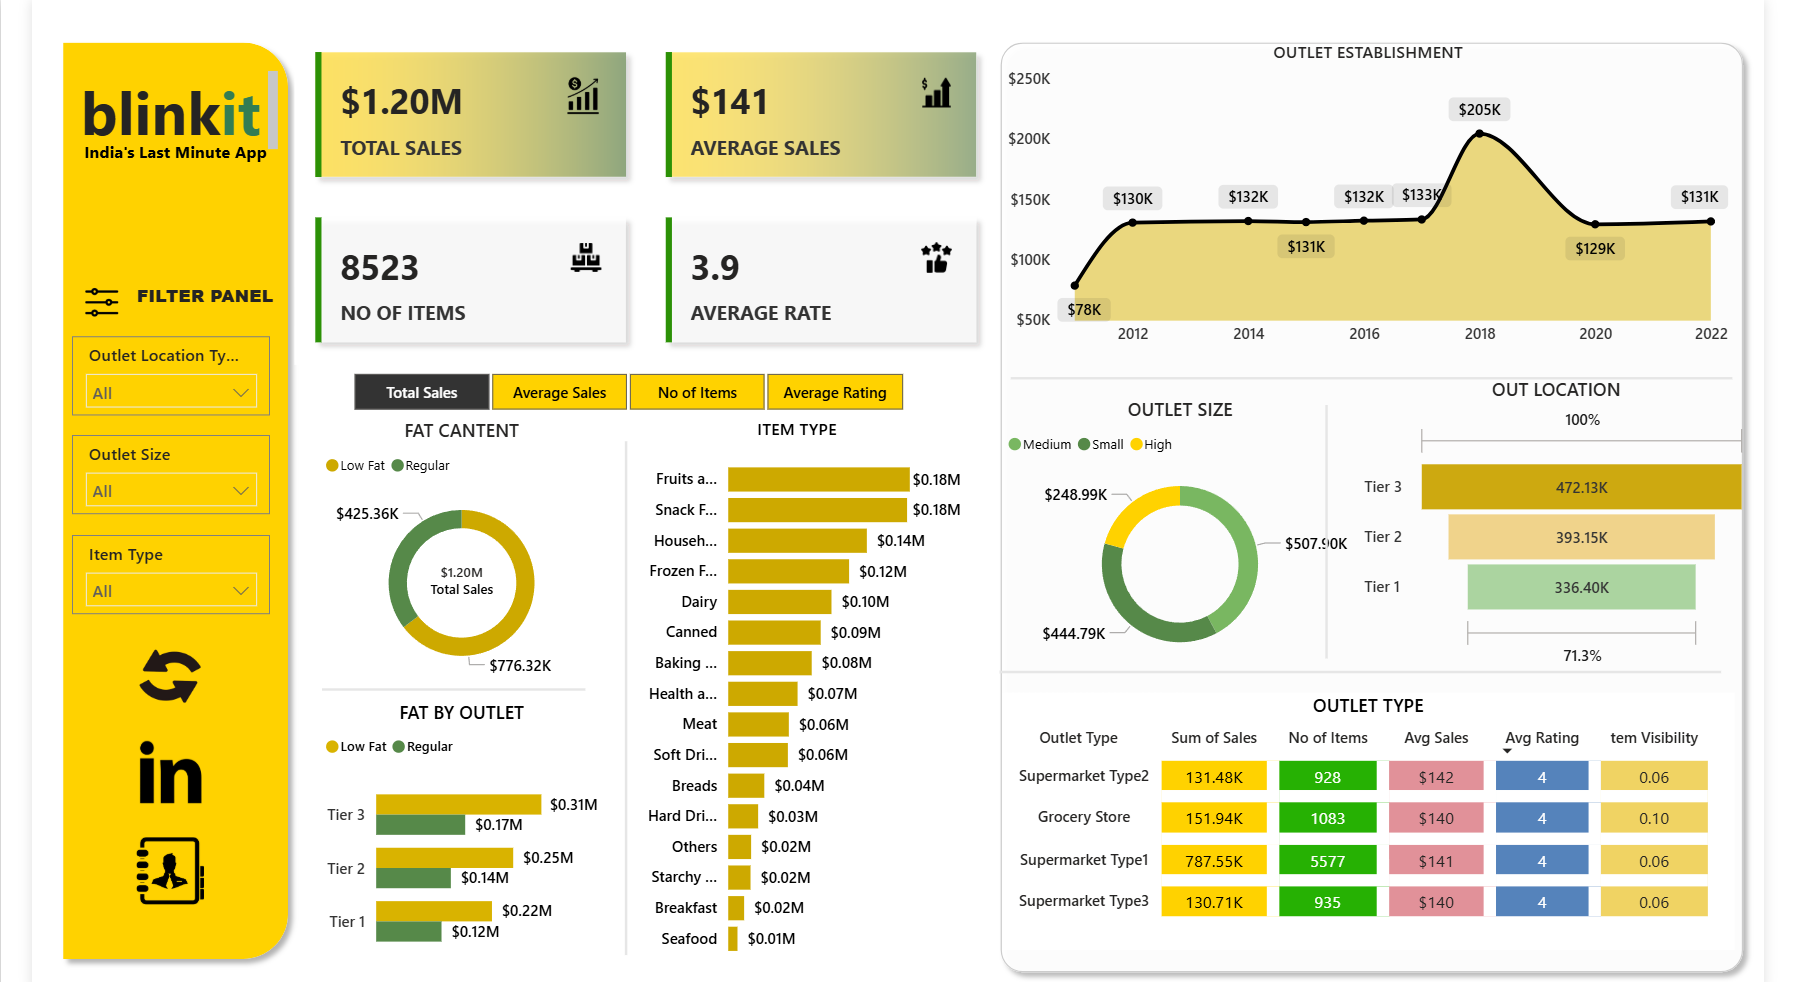

The page's visual inventory and layout, read from the dashboard file:
{"tool":"powerbi","page":{"name":"blinkit dashboard","canvas":[1400,800],"ordinal":0},"visuals":[{"type":"shape","box":[16.1,25.5,199.7,758.7],"z":0},{"type":"textbox","box":[28.5,52.5,175.6,73.5],"z":1000},{"type":"textbox","box":[28.5,108.1,175.6,37.5],"z":2000},{"type":"cardVisual","fields":{"Data":["BlinkIT Grocery Data.Total Sales","BlinkIT Grocery Data.Average Sales","BlinkIT Grocery Data.No of Items","BlinkIT Grocery Data.Average Rate"]},"box":[211.8,25.5,569.7,269.4],"z":3000},{"type":"donutChart","title":"FAT CANTENT","fields":{"Y":["BlinkIT Grocery Data.Total Sales"],"Category":["BlinkIT Grocery Data.Item Fat Content"]},"box":[231.9,337.8,230,220],"z":4000},{"type":"slicer","fields":{"Values":["Metrics.Metrics"]},"box":[234.6,294.9,493.3,42.9],"z":5000},{"type":"clusteredBarChart","title":"FAT BY OUTLET","fields":{"Y":["BlinkIT Grocery Data.Total Sales"],"Category":["BlinkIT Grocery Data.Outlet Location Type"],"Series":["BlinkIT Grocery Data.Item Fat Content"]},"box":[231.9,564.3,230,220],"z":6000},{"type":"shape","box":[234.6,542.9,213.1,29.5],"z":7000},{"type":"shape","box":[462.5,356.6,34.9,415.6],"z":8000},{"type":"cardVisual","fields":{"Data":["BlinkIT Grocery Data.Total Sales"]},"box":[281.5,437,131.4,63],"z":9000},{"type":"barChart","title":"ITEM TYPE ","fields":{"Y":["BlinkIT Grocery Data.Total Sales"],"Category":["BlinkIT Grocery Data.Item Type"]},"box":[481.2,337.8,274.8,446.4],"z":10000},{"type":"shape","box":[773.5,25.5,618,769.4],"z":11000},{"type":"lineChart","title":"OUTLET ESTABLISHMENT ","fields":{"Y":["BlinkIT Grocery Data.Total Sales"],"Category":["BlinkIT Grocery Data.Outlet Establishment Year"]},"box":[784,32,592,256],"z":12000},{"type":"shape","box":[790.9,294.9,583.1,21.4],"z":13000},{"type":"donutChart","title":"OUTLET SIZE","fields":{"Y":["BlinkIT Grocery Data.Total Sales"],"Category":["BlinkIT Grocery Data.Outlet Size"]},"box":[784,320,288,224],"z":14000},{"type":"shape","box":[1037.5,327.1,17.4,205.1],"z":15000},{"type":"funnel","title":"OUT LOCATION ","fields":{"Y":["Sum(BlinkIT Grocery Data.Sales)"],"Category":["BlinkIT Grocery Data.Outlet Location Type"]},"box":[1072,304,320,240],"z":16000},{"type":"shape","box":[781.5,532.2,583.1,21.4],"z":17000},{"type":"pivotTable","title":"OUTLET TYPE","fields":{"Rows":["BlinkIT Grocery Data.Outlet Type"],"Values":["Sum(BlinkIT Grocery Data.Sales)","BlinkIT Grocery Data.No of Items","BlinkIT Grocery Data.Average Sales","BlinkIT Grocery Data.Average Rating","Avg(BlinkIT Grocery Data.Item Visibility)"]},"box":[784,560,592,208],"z":18000},{"type":"slicer","fields":{"Values":["BlinkIT Grocery Data.Outlet Location Type"]},"box":[32,272,160,64],"z":19000},{"type":"slicer","fields":{"Values":["BlinkIT Grocery Data.Outlet Size"]},"box":[32,352,160,64],"z":20000},{"type":"slicer","fields":{"Values":["BlinkIT Grocery Data.Item Type"]},"box":[32,432,160,64],"z":21000},{"type":"image","box":[64,512,96,80],"z":22000},{"type":"image","box":[32,224,48,40],"z":23000},{"type":"textbox","box":[80,224,128,48],"z":24000},{"type":"image","box":[80,592,64,64],"z":25000},{"type":"image","box":[80,672,64,64],"z":26000}]}

Visuals, with their boxes on the page's 1400x800 design canvas (x1, y1, x2, y2). These are canvas units, not pixel positions in the 1794x982 screenshot, which may show the page scaled, cropped or inside an application window:
shape: (x1=16, y1=26, x2=216, y2=784)
textbox: (x1=28, y1=52, x2=204, y2=126)
textbox: (x1=28, y1=108, x2=204, y2=146)
cardVisual - BlinkIT Grocery Data.Total Sales x BlinkIT Grocery Data.Average Sales: (x1=212, y1=26, x2=782, y2=295)
"FAT CANTENT" donutChart: (x1=232, y1=338, x2=462, y2=558)
slicer - Metrics.Metrics: (x1=235, y1=295, x2=728, y2=338)
"FAT BY OUTLET" clusteredBarChart: (x1=232, y1=564, x2=462, y2=784)
shape: (x1=235, y1=543, x2=448, y2=572)
shape: (x1=462, y1=357, x2=497, y2=772)
cardVisual - BlinkIT Grocery Data.Total Sales: (x1=282, y1=437, x2=413, y2=500)
"ITEM TYPE " barChart: (x1=481, y1=338, x2=756, y2=784)
shape: (x1=774, y1=26, x2=1392, y2=795)
"OUTLET ESTABLISHMENT " lineChart: (x1=784, y1=32, x2=1376, y2=288)
shape: (x1=791, y1=295, x2=1374, y2=316)
"OUTLET SIZE" donutChart: (x1=784, y1=320, x2=1072, y2=544)
shape: (x1=1038, y1=327, x2=1055, y2=532)
"OUT LOCATION " funnel: (x1=1072, y1=304, x2=1392, y2=544)
shape: (x1=782, y1=532, x2=1365, y2=554)
"OUTLET TYPE" pivotTable: (x1=784, y1=560, x2=1376, y2=768)
slicer - BlinkIT Grocery Data.Outlet Location Type: (x1=32, y1=272, x2=192, y2=336)
slicer - BlinkIT Grocery Data.Outlet Size: (x1=32, y1=352, x2=192, y2=416)
slicer - BlinkIT Grocery Data.Item Type: (x1=32, y1=432, x2=192, y2=496)
image: (x1=64, y1=512, x2=160, y2=592)
image: (x1=32, y1=224, x2=80, y2=264)
textbox: (x1=80, y1=224, x2=208, y2=272)
image: (x1=80, y1=592, x2=144, y2=656)
image: (x1=80, y1=672, x2=144, y2=736)
